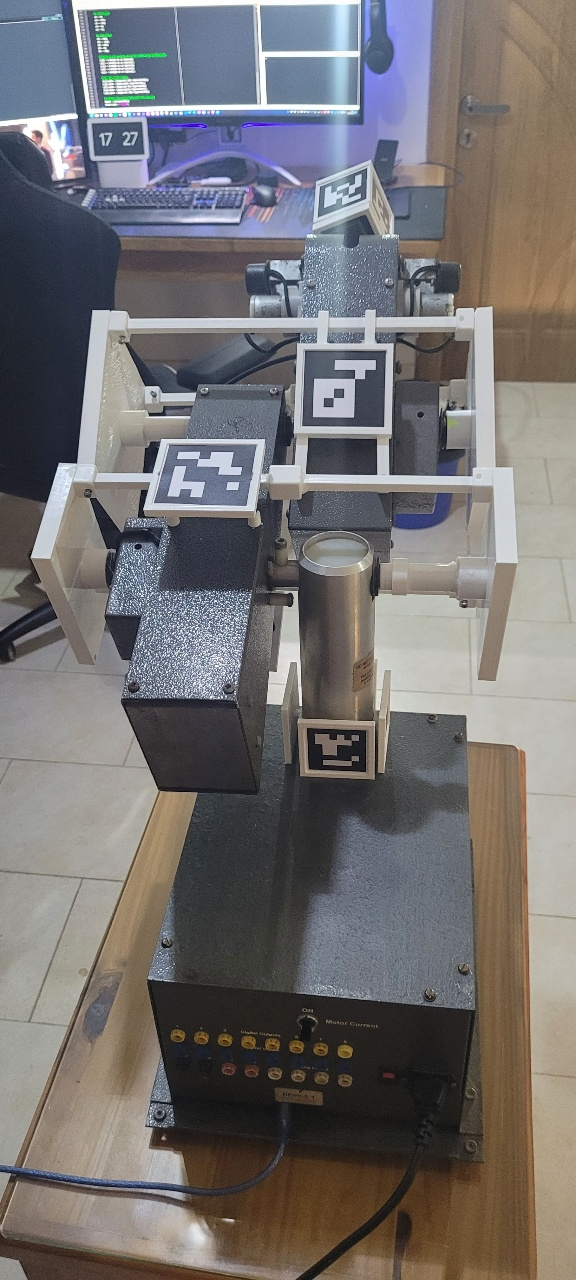Robot: (80, 237, 487, 1169)
